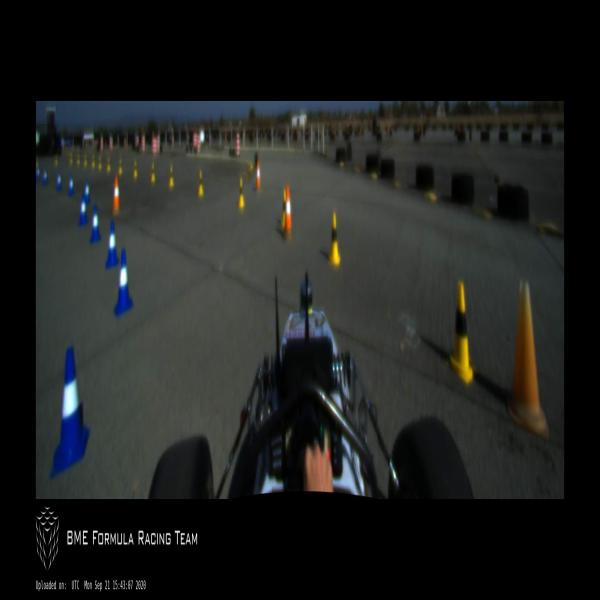blue_cone: (51, 346, 90, 480), (114, 249, 134, 316), (106, 220, 118, 268), (90, 205, 101, 243), (79, 194, 88, 224), (68, 173, 74, 195), (56, 170, 62, 190), (86, 179, 90, 202), (43, 166, 47, 184)
unknown_cone: (506, 280, 550, 436), (284, 183, 292, 240), (112, 176, 120, 213), (255, 158, 261, 190)
yellow_cone: (447, 281, 475, 385), (327, 211, 340, 266), (238, 178, 245, 209), (281, 188, 286, 227), (198, 170, 204, 197), (168, 164, 174, 187), (150, 162, 156, 181), (133, 160, 138, 178), (118, 156, 123, 174), (106, 154, 111, 171), (91, 152, 95, 168), (98, 154, 101, 169)
